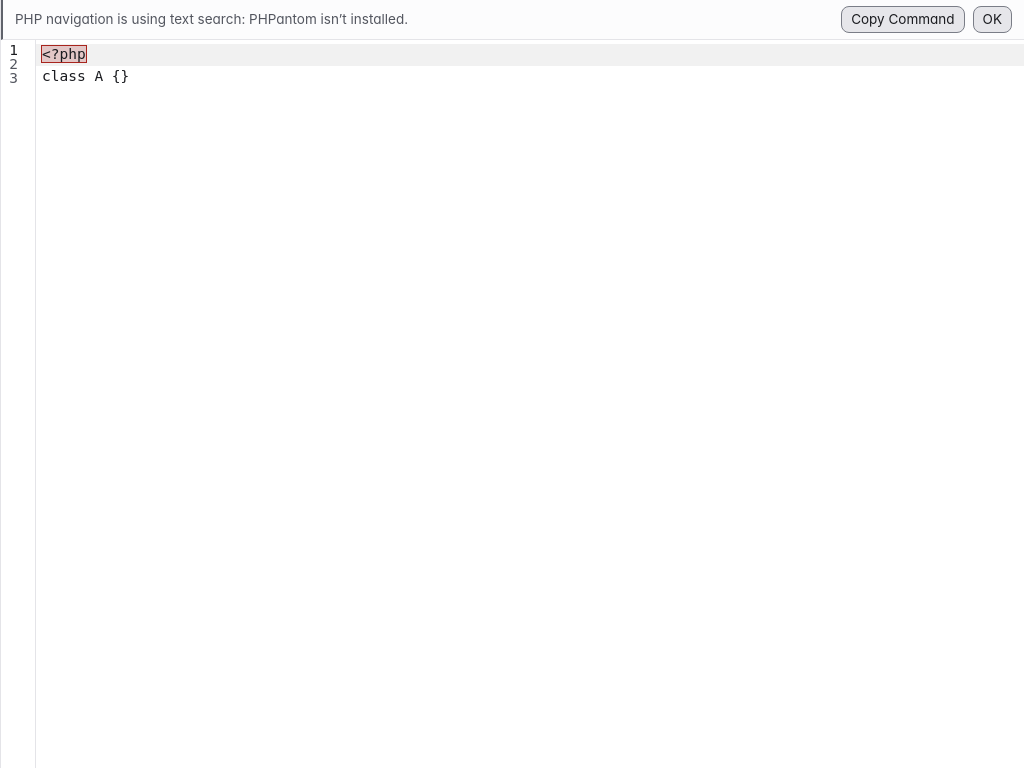
it: FileEditor: what it says about PHPantom › a failed copy says so
Click the button "Copy Command".
click(903, 19)  # box [841,6,965,33]
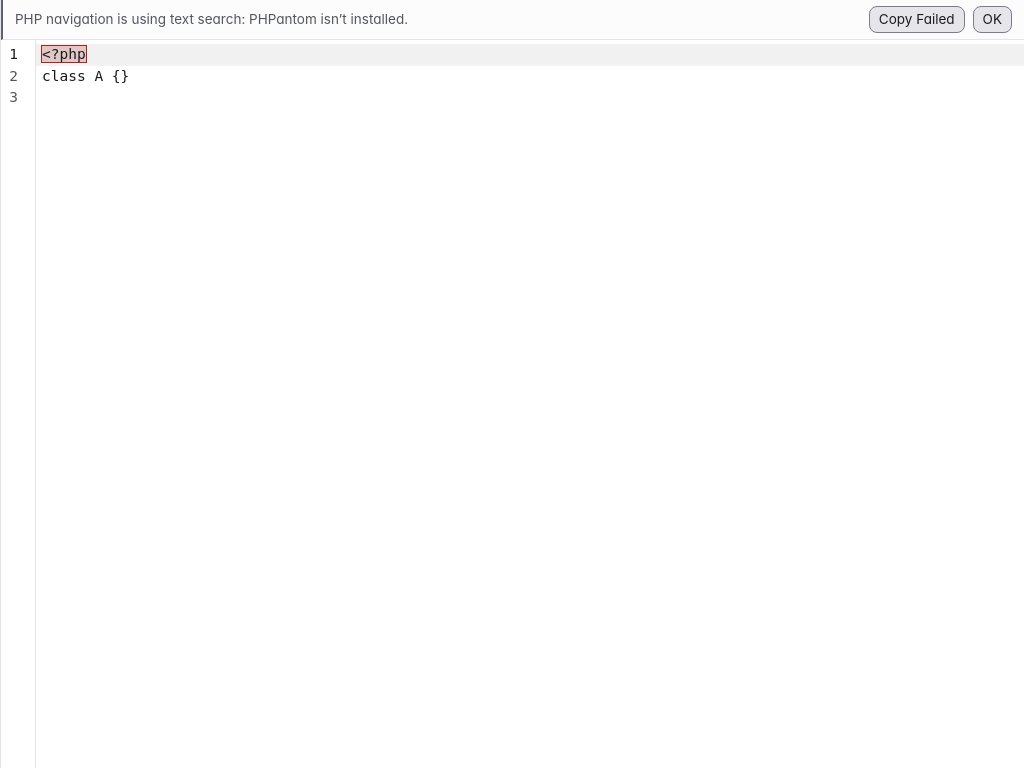
Now the button "Copy Failed" is shown, box [869,6,965,33]
